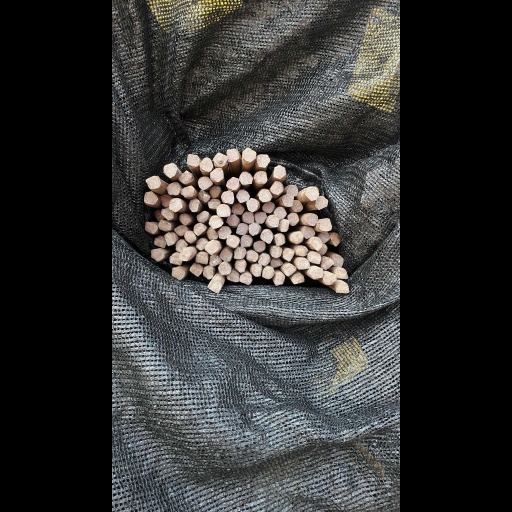dipstick: (204, 240, 219, 254), (163, 163, 177, 177), (246, 198, 260, 212), (289, 230, 303, 244), (305, 186, 319, 200), (301, 225, 315, 239), (225, 177, 240, 190), (181, 185, 196, 198), (179, 171, 193, 184), (213, 153, 227, 166), (226, 148, 239, 162), (256, 154, 270, 167), (238, 172, 252, 185), (210, 168, 224, 181), (198, 176, 212, 189), (166, 182, 180, 195), (144, 191, 158, 204), (169, 198, 182, 212), (189, 198, 202, 212), (151, 248, 165, 261), (236, 189, 249, 203), (258, 188, 272, 201), (145, 176, 160, 188), (208, 216, 223, 228), (242, 148, 255, 161), (273, 165, 286, 178), (144, 221, 157, 234), (153, 235, 166, 248), (193, 222, 206, 235), (226, 214, 239, 227), (218, 226, 231, 239), (169, 252, 182, 265), (218, 262, 231, 275), (234, 259, 247, 272), (260, 229, 273, 242), (315, 196, 328, 209), (319, 218, 332, 231), (309, 237, 322, 250), (307, 251, 320, 264), (200, 157, 212, 171), (160, 208, 174, 220), (174, 224, 188, 236), (232, 201, 244, 215), (171, 268, 185, 280), (207, 281, 221, 293), (309, 267, 323, 279), (321, 256, 333, 270), (254, 171, 267, 183), (209, 185, 221, 198), (196, 211, 209, 223), (164, 233, 176, 246), (184, 230, 196, 243), (217, 204, 230, 216), (189, 264, 202, 276), (195, 252, 208, 264), (219, 249, 231, 262), (248, 223, 261, 235), (271, 181, 283, 194), (274, 206, 286, 219), (258, 253, 270, 266), (262, 266, 274, 279), (273, 272, 285, 285), (282, 248, 294, 261), (294, 245, 307, 257), (317, 231, 330, 243), (335, 281, 348, 293), (331, 254, 343, 267), (176, 239, 187, 253), (282, 264, 296, 275), (295, 258, 309, 269), (333, 268, 347, 279), (187, 154, 199, 166), (198, 190, 210, 202), (160, 195, 172, 207), (179, 213, 191, 225), (221, 191, 233, 203), (227, 270, 239, 282), (227, 235, 239, 247), (234, 247, 246, 259), (240, 235, 252, 247), (236, 223, 248, 235), (262, 201, 274, 213), (282, 194, 294, 206), (305, 213, 317, 225), (202, 266, 213, 279), (239, 273, 252, 284), (274, 233, 285, 246), (323, 273, 336, 284), (330, 232, 340, 246), (209, 255, 221, 266), (196, 238, 207, 250), (246, 250, 258, 261), (242, 212, 254, 223), (255, 212, 266, 224), (287, 184, 298, 196), (291, 199, 302, 211), (267, 215, 278, 227), (287, 213, 298, 225), (253, 241, 265, 252), (270, 246, 282, 257), (158, 220, 171, 230), (278, 218, 288, 231), (180, 249, 191, 260), (208, 198, 220, 208), (206, 229, 218, 239), (251, 264, 261, 276), (292, 273, 304, 283), (270, 258, 283, 267)
